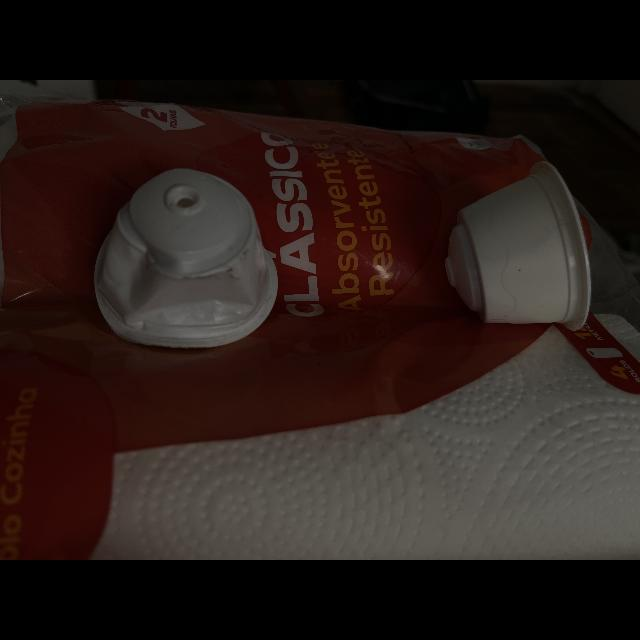damaged_capsule: (91, 160, 299, 356)
intact_capsule: (434, 156, 600, 344)
